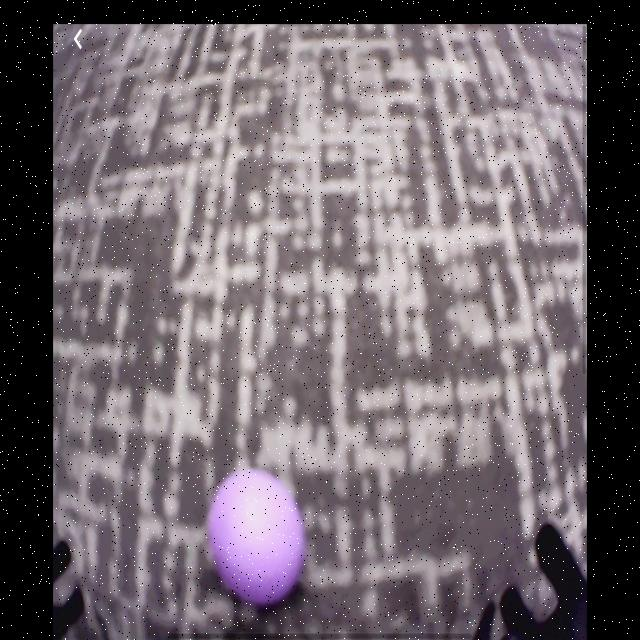ball: (208, 471, 305, 608)
